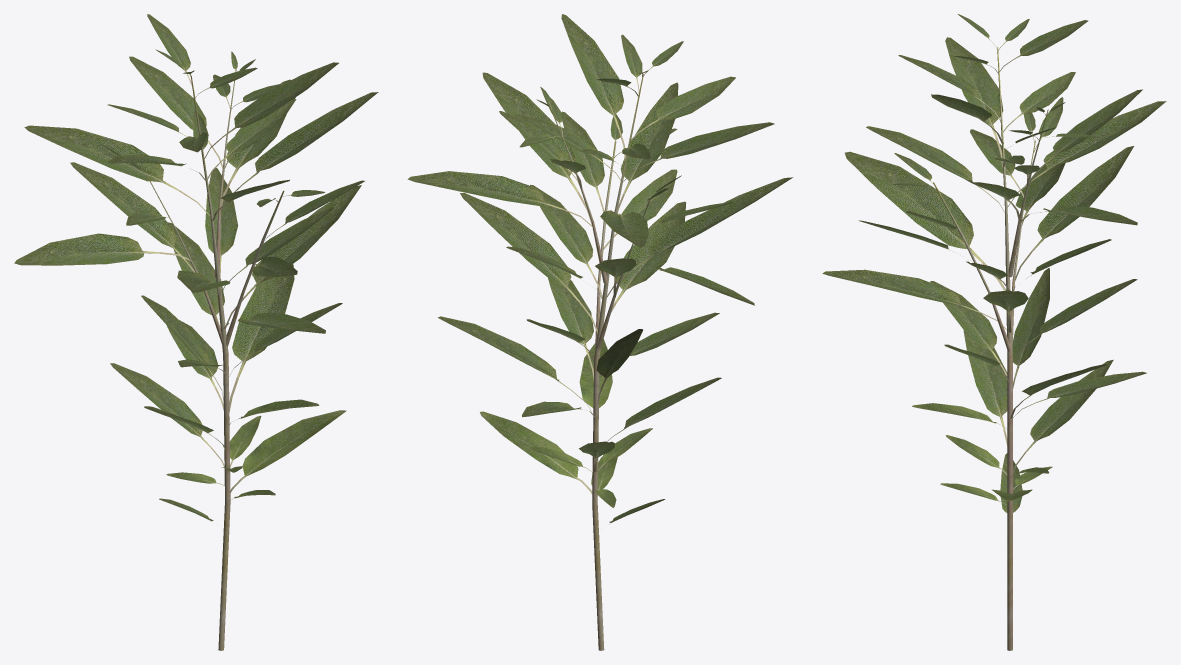
Rendered from Sage3.fbx.
The picture shows the model from 3 angles, left to right: view 1: azimuth 30°, elevation 25°; view 2: azimuth 150°, elevation 25°; view 3: azimuth 270°, elevation 25°; orthographic projection.
Parts seen in each view (by area): view 1: Sage3; view 2: Sage3; view 3: Sage3.
Boxes of the visible parts, box(x1,y1,x2,y2) form: Sage3: box(14, 14, 378, 650); Sage3: box(407, 14, 792, 650); Sage3: box(822, 14, 1166, 650).
Bounding box in the file's own units: 39.58 × 71.91 × 36.69.
